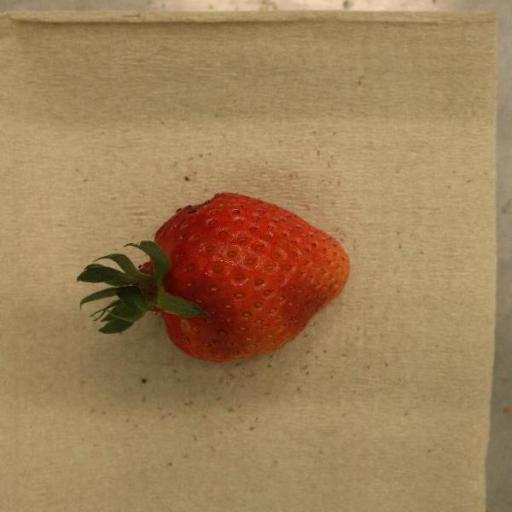Strawberry: (77, 193, 351, 362)
